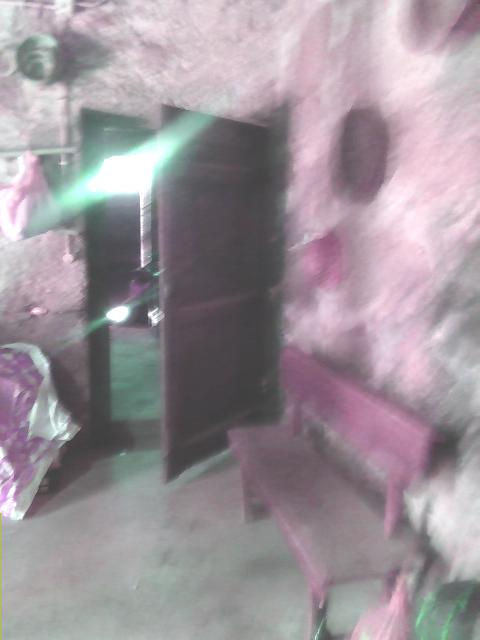semi_door: (80, 98, 288, 484)
